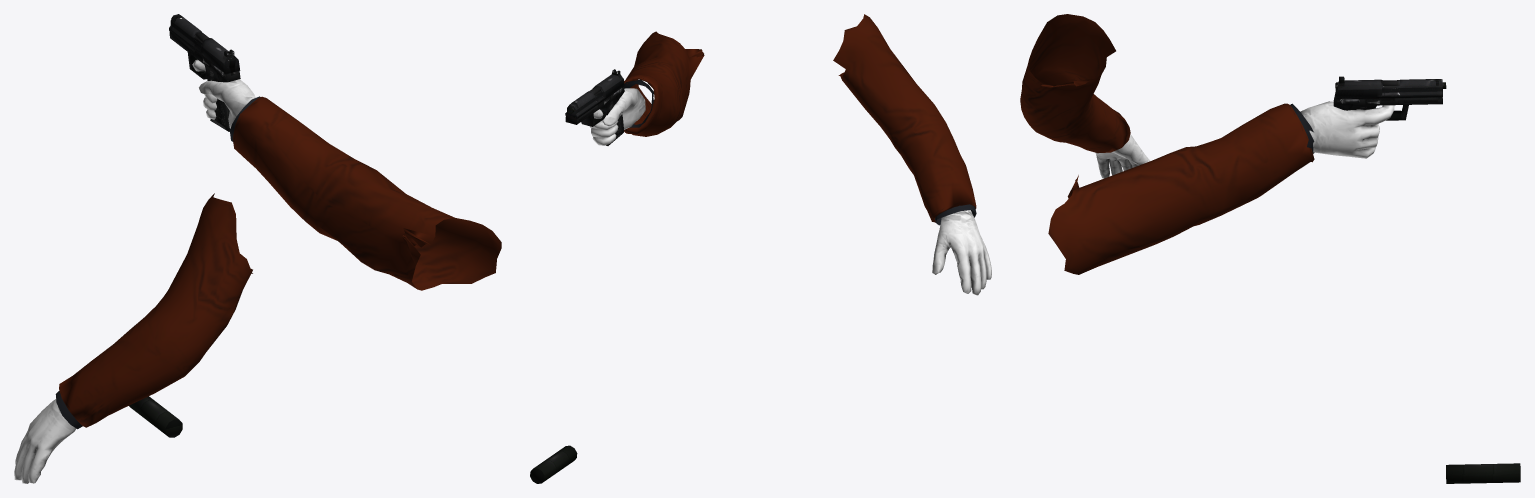
File: frame_0010.obj
3 renders of one model, left to right at view 1: azimuth 30°, elevation 25°; view 2: azimuth 150°, elevation 25°; view 3: azimuth 270°, elevation 25°, orthographic. The views are drawn at different scales.
Parts seen in each view (by area): view 1: PlayerModelMerged.001_PlayerModelMerged, glock_reference.001; view 2: PlayerModelMerged.001_PlayerModelMerged, glock_reference.001; view 3: PlayerModelMerged.001_PlayerModelMerged, glock_reference.001.
Part boxes in pixels (<box>): PlayerModelMerged.001_PlayerModelMerged: <box>14,59,501,483</box>; glock_reference.001: <box>129,14,240,437</box>; PlayerModelMerged.001_PlayerModelMerged: <box>590,14,991,295</box>; glock_reference.001: <box>530,69,624,483</box>; PlayerModelMerged.001_PlayerModelMerged: <box>1020,14,1394,274</box>; glock_reference.001: <box>1333,76,1520,483</box>.
Bounding box in the file's own units: 1.14 × 1.04 × 1.17.
